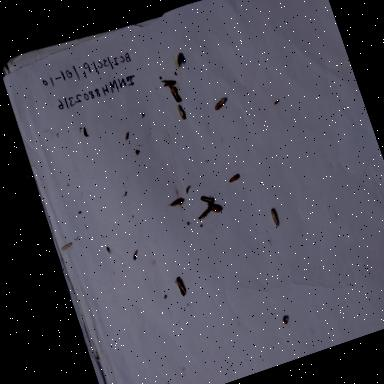pbw: (172, 274, 191, 300), (165, 194, 190, 211), (167, 82, 184, 106), (211, 96, 231, 114), (205, 198, 224, 216), (198, 190, 217, 207), (174, 100, 188, 122), (160, 74, 179, 90), (195, 205, 214, 221), (172, 50, 187, 70), (270, 206, 282, 228), (226, 172, 242, 184)
